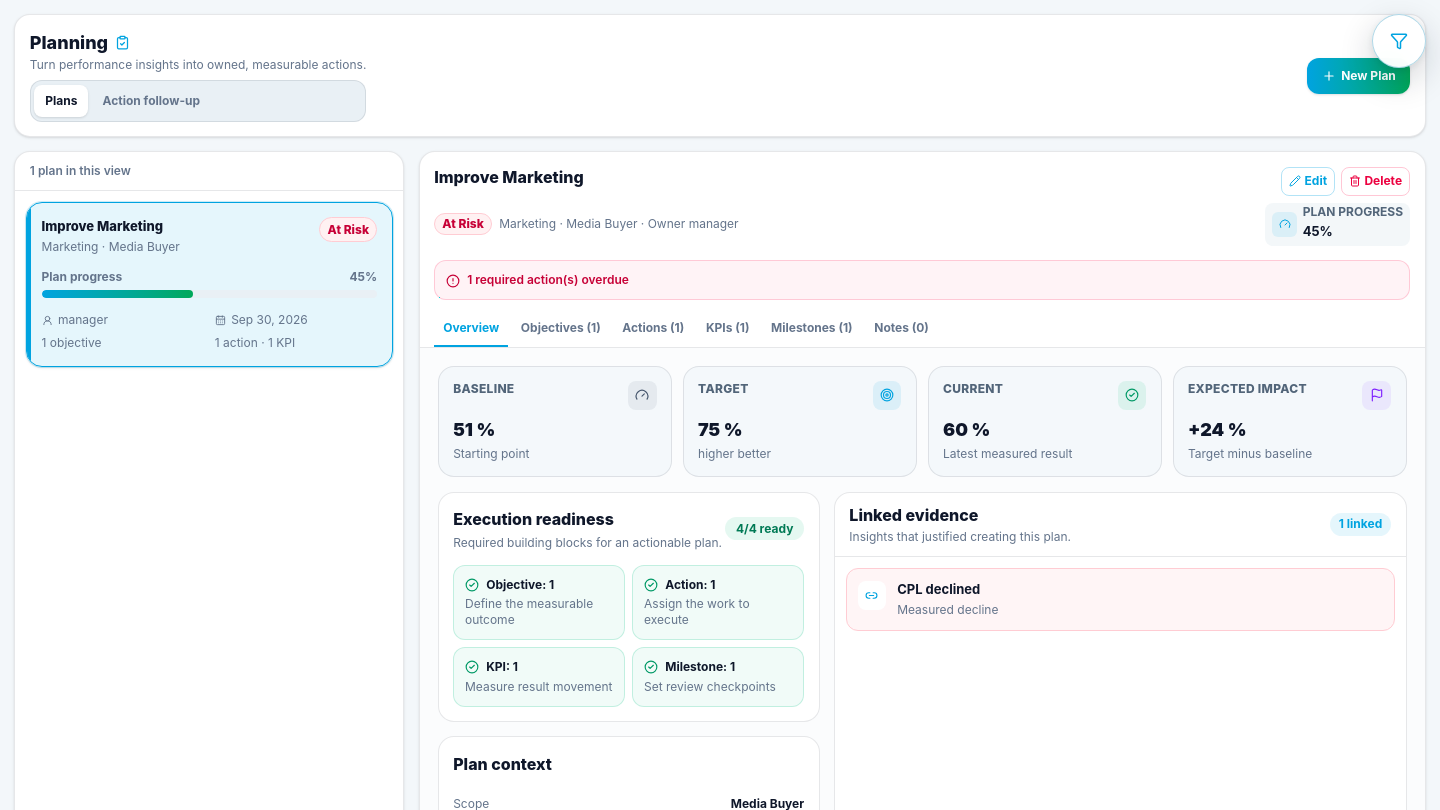
Test: PlanningView › does not allow review with empty baseline, target, or objective
The image size is (1440, 810).
Click the button "New Plan": coordinates (1359, 76) top-left (1307, 58), bottom-right (1410, 94)
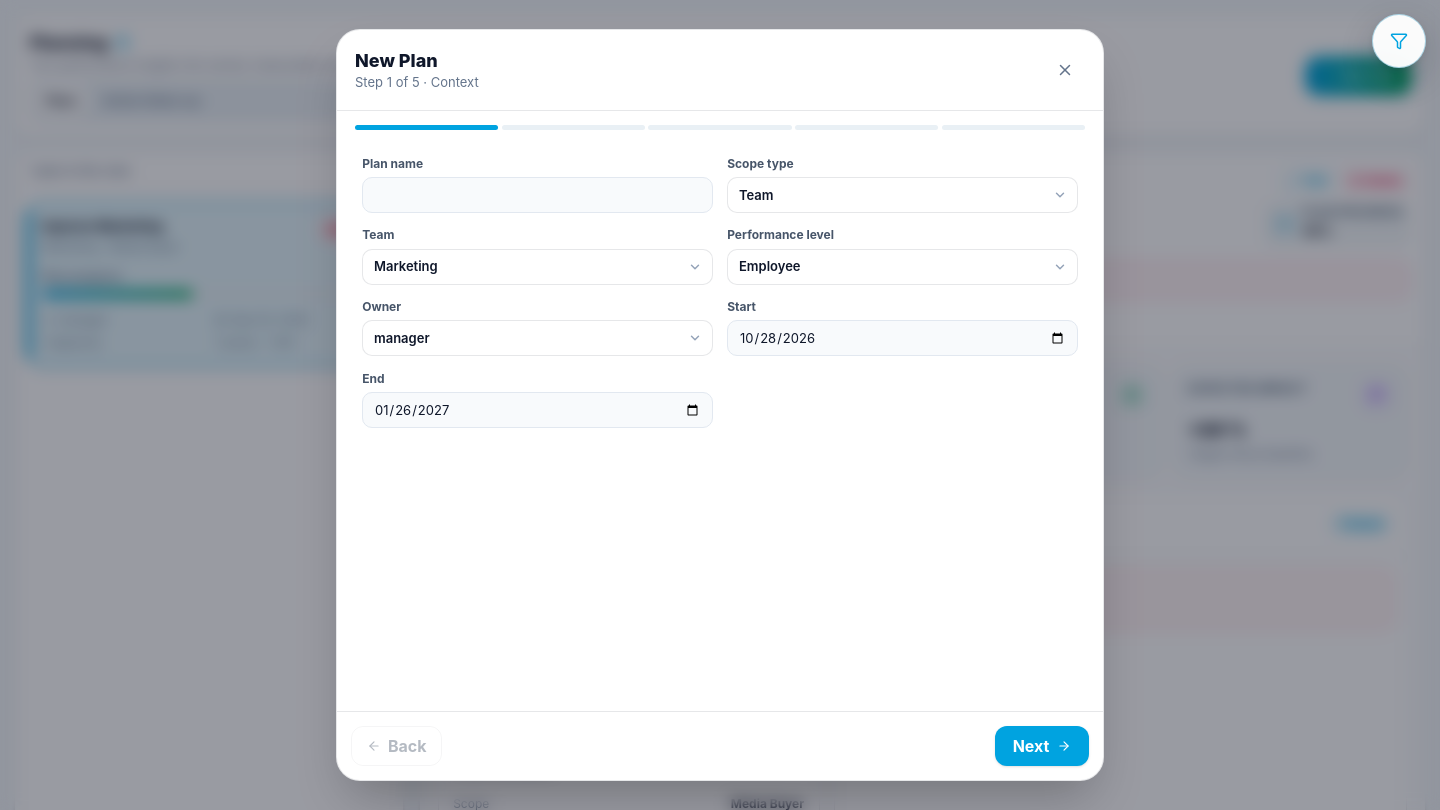
In the field labelled "Plan name": coordinates (538, 195) top-left (362, 177), bottom-right (713, 213), type "Improve response time"
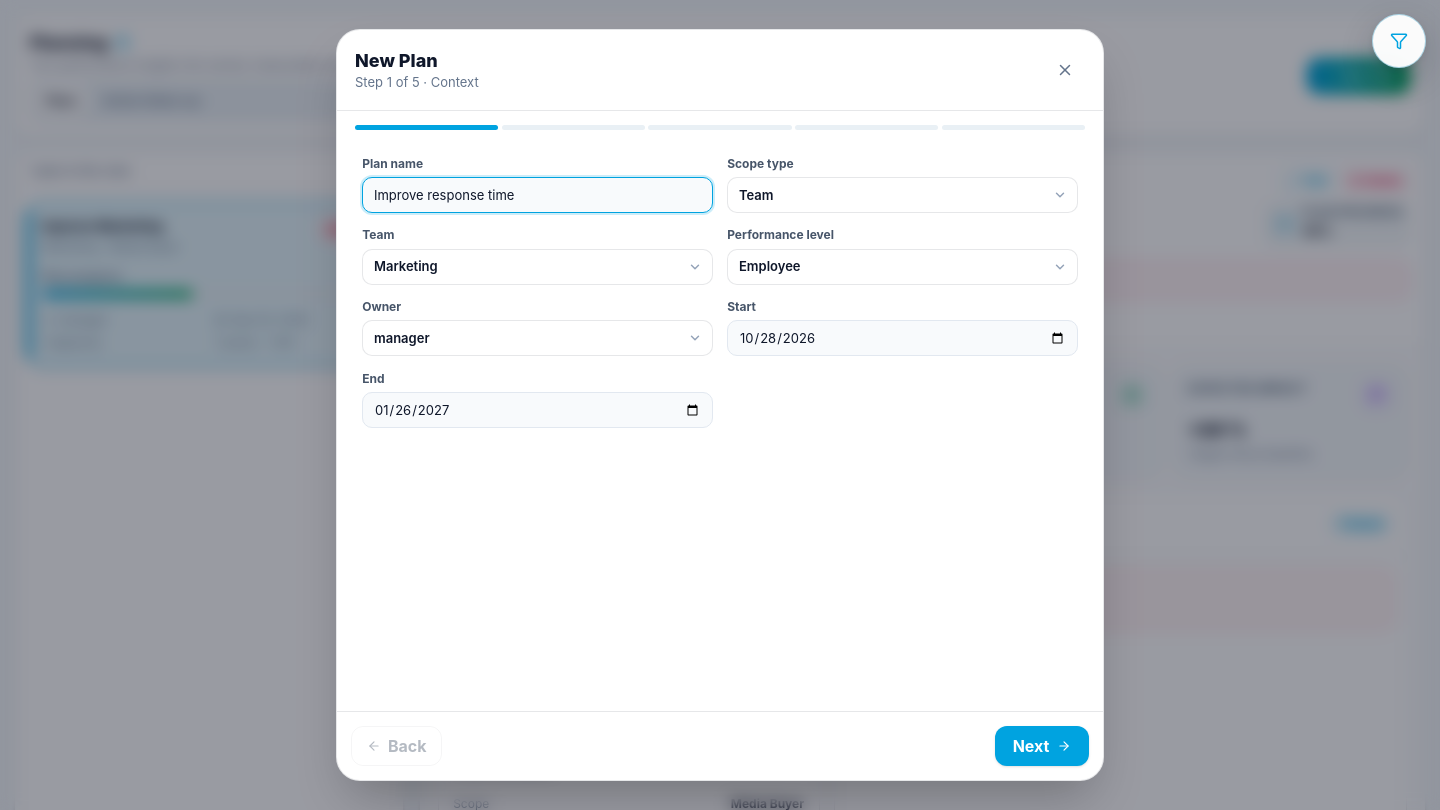
Click the button "Next": coordinates (1042, 746) top-left (995, 726), bottom-right (1089, 766)
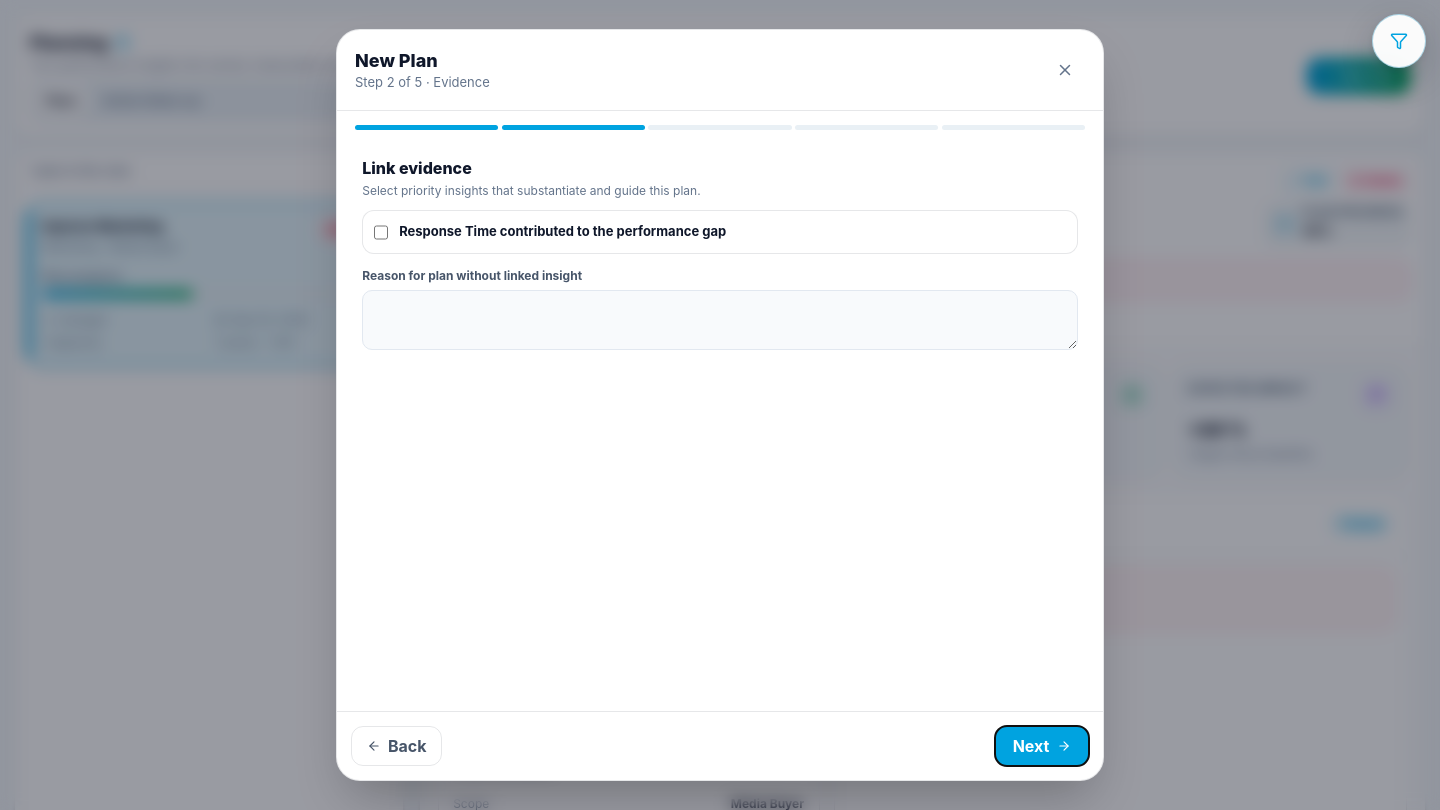
In the text box labelled "Reason for plan without linked insight": coordinates (720, 320) top-left (362, 290), bottom-right (1078, 350), type "Operational improvement"
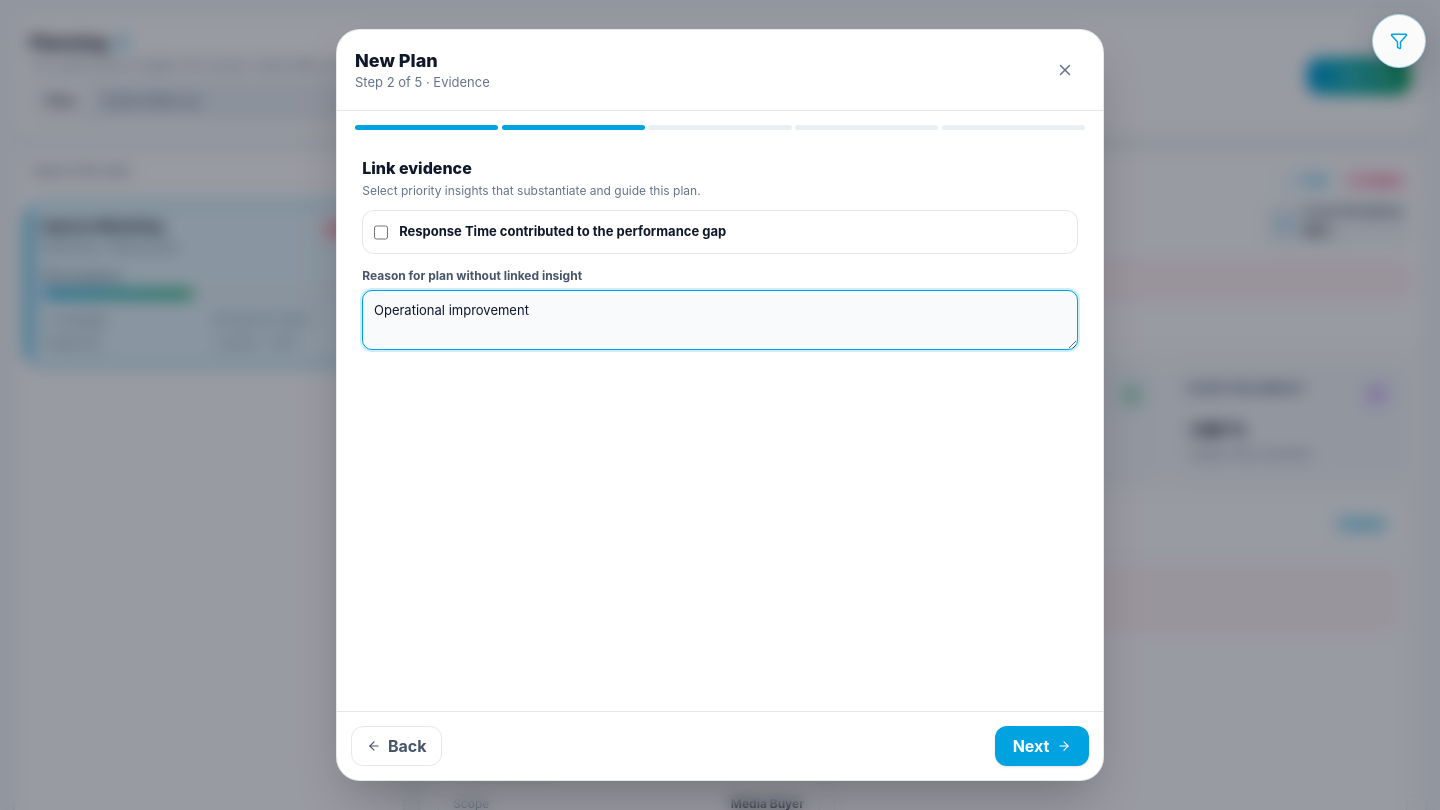
Click the button "Next": coordinates (1042, 746) top-left (995, 726), bottom-right (1089, 766)
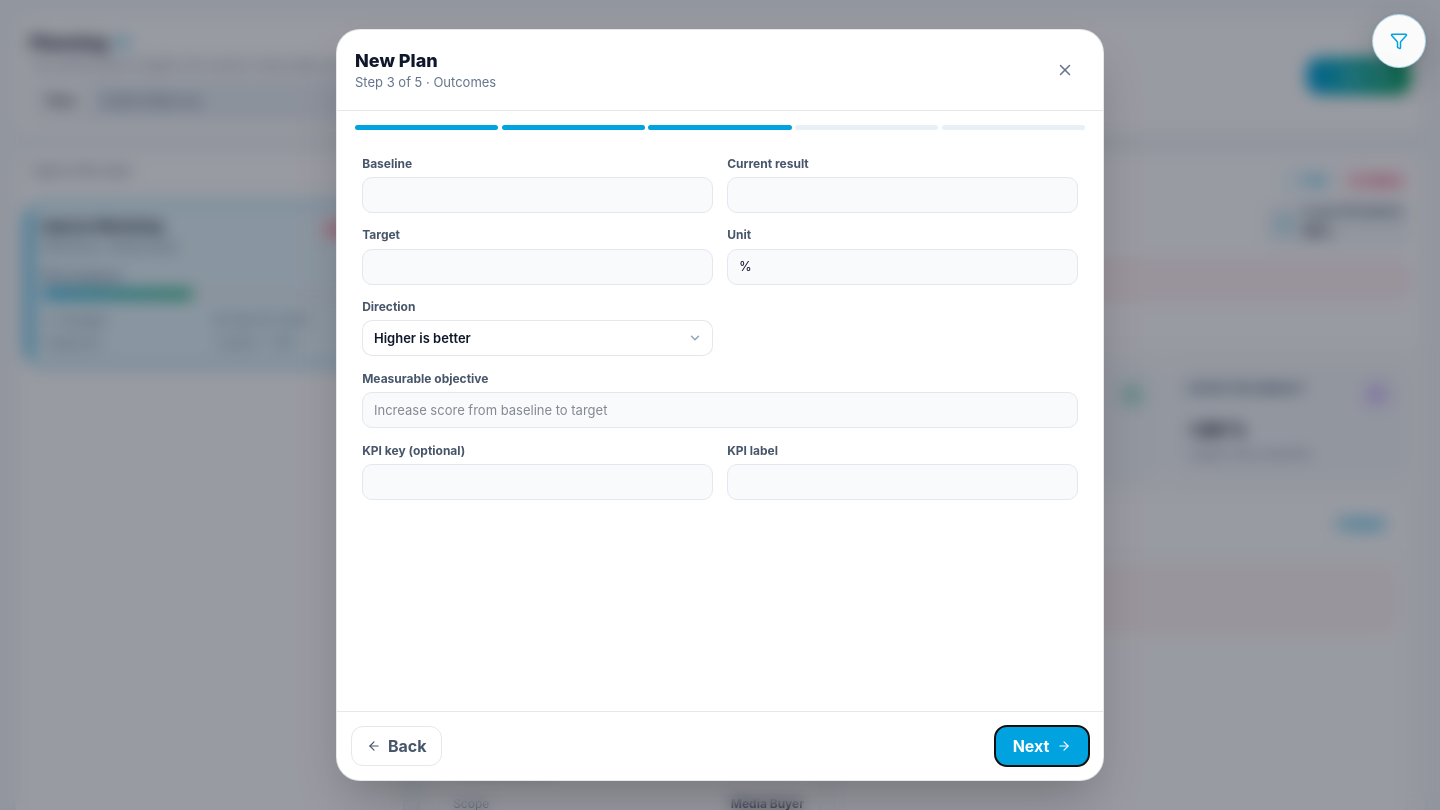
Click the button "Next": coordinates (1042, 746) top-left (995, 726), bottom-right (1089, 766)
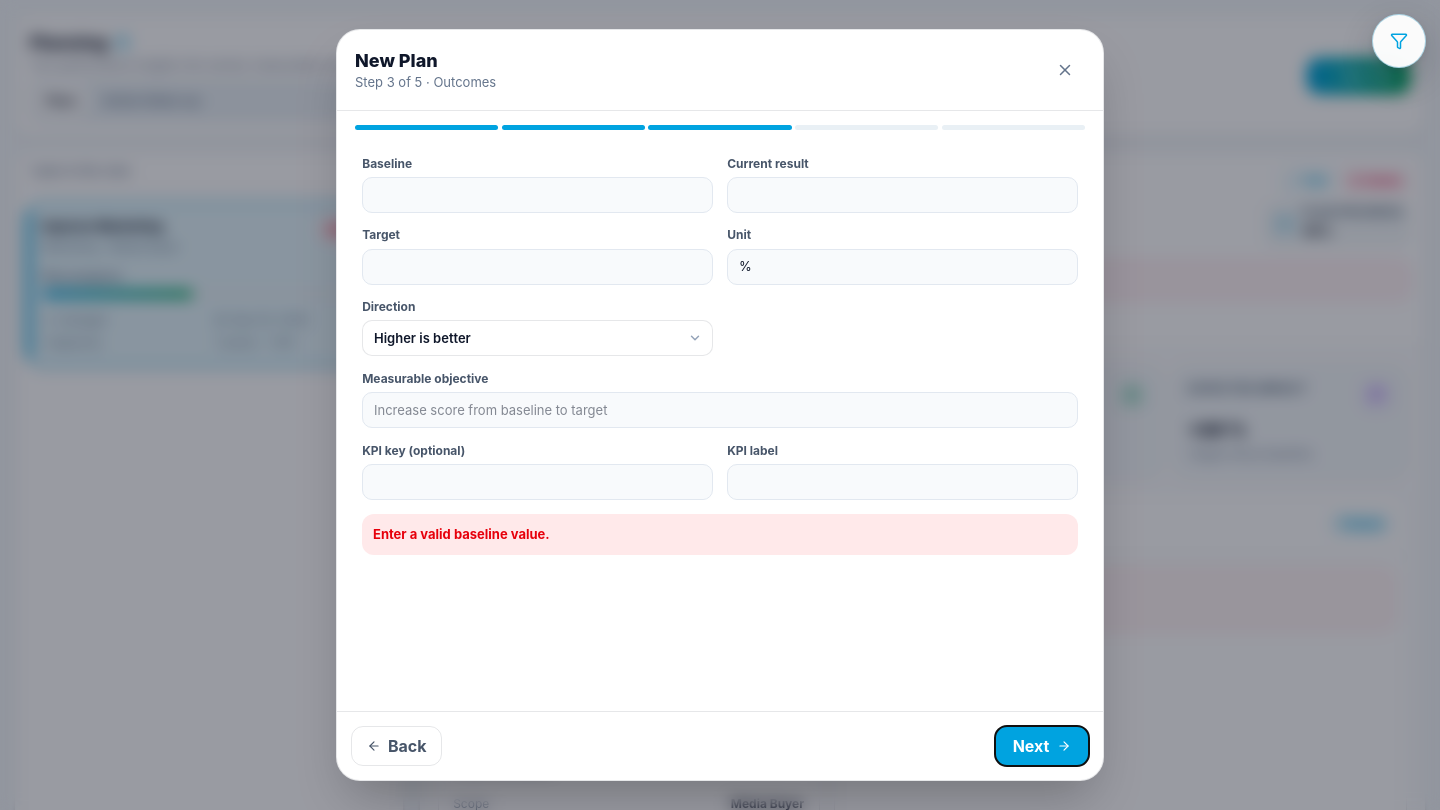
Expected: the text "Step 3 of 5 · Outcomes" is shown, top-left (355, 73), bottom-right (496, 92)
Expected: the message reads "Enter a valid baseline value.", top-left (373, 526), bottom-right (550, 542)
